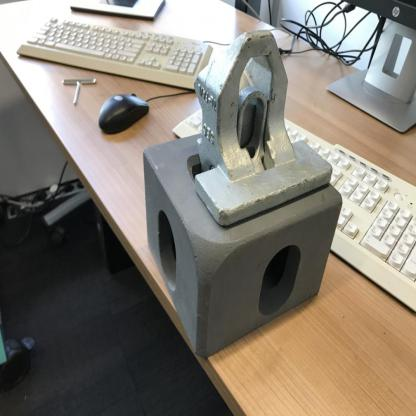CornerCasting: (127, 143, 341, 360)
Twistlock: (184, 26, 338, 222)
